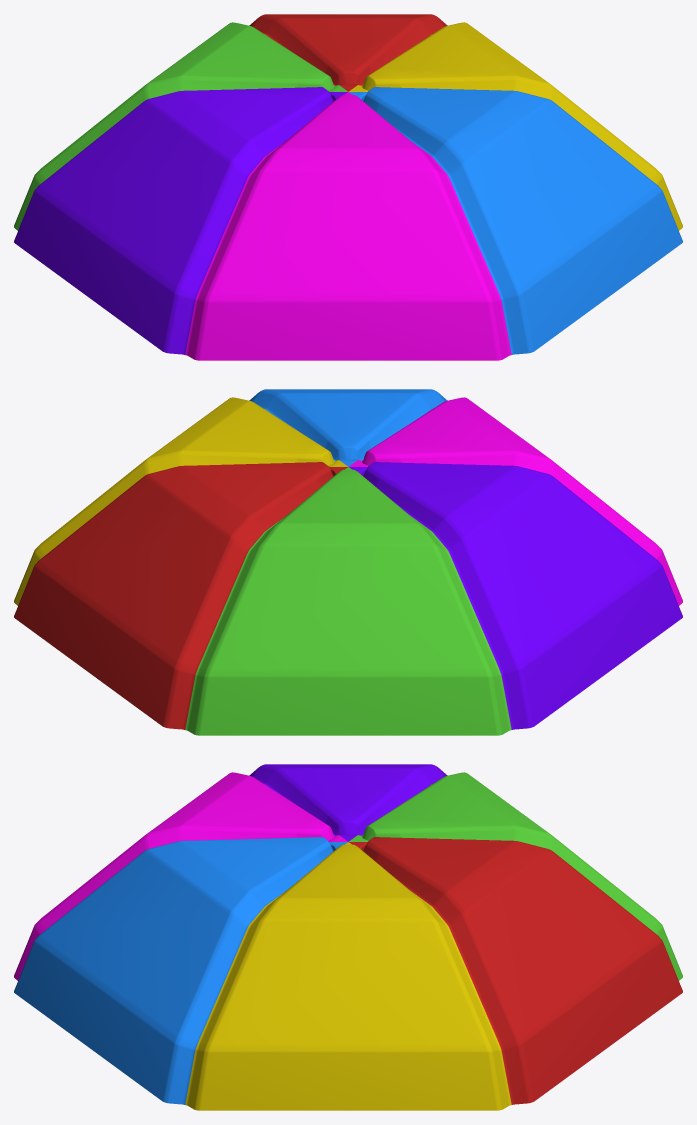
The model's file is Gem Rainbow.fbx.
3 views of the same model, one above another, from view 1: azimuth 30°, elevation 25°; view 2: azimuth 150°, elevation 25°; view 3: azimuth 270°, elevation 25° (orthographic).
Visible parts, largest first — view 1: Cylinder.004; view 2: Cylinder.004; view 3: Cylinder.004.
Boxes of the visible parts, box(x1,y1,x2,y2) form: Cylinder.004: box(14, 14, 682, 360); Cylinder.004: box(14, 389, 682, 735); Cylinder.004: box(14, 764, 682, 1110).
Size of the model in its own units: 1.86 by 0.5214 by 2.07.
